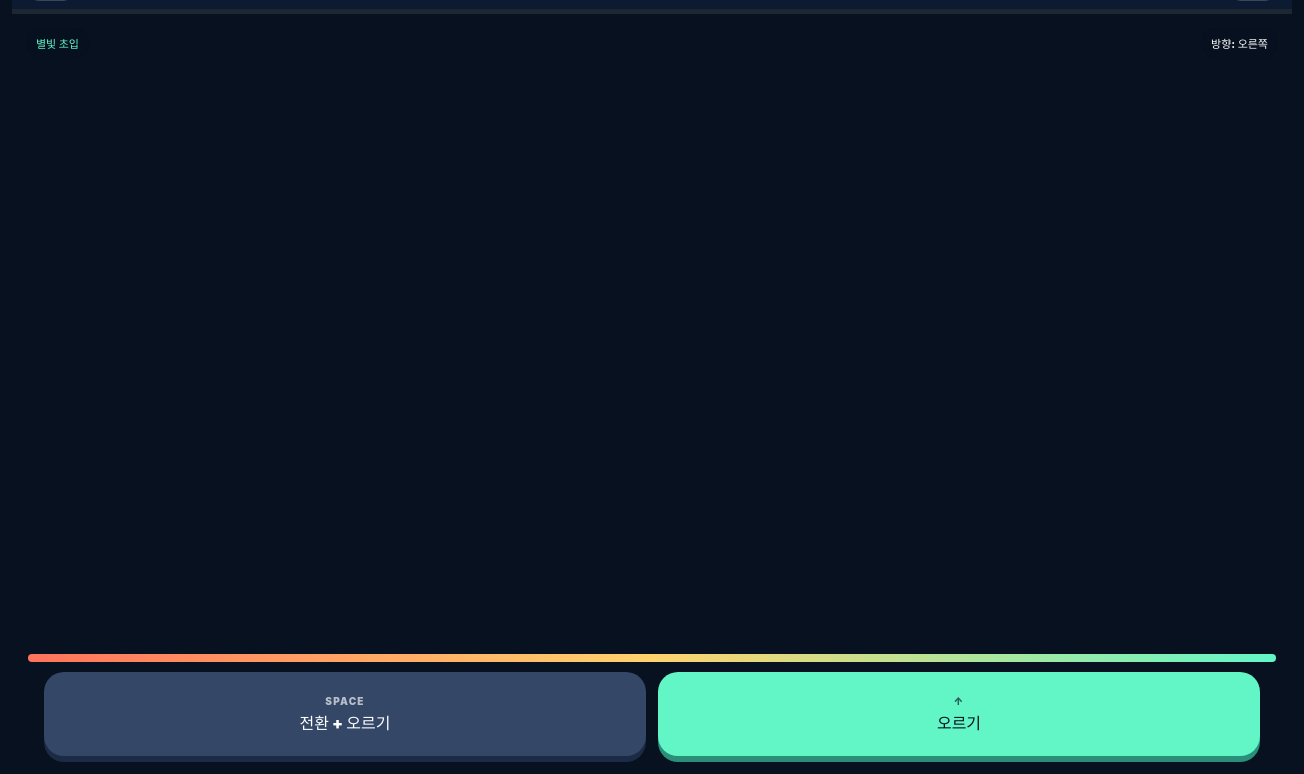
Scenario: GameScreen › uses the same actions for the two mobile buttons
(page scrolled)
Click the button "↑ 오르기" at (959, 714), box [658,672,1260,756]
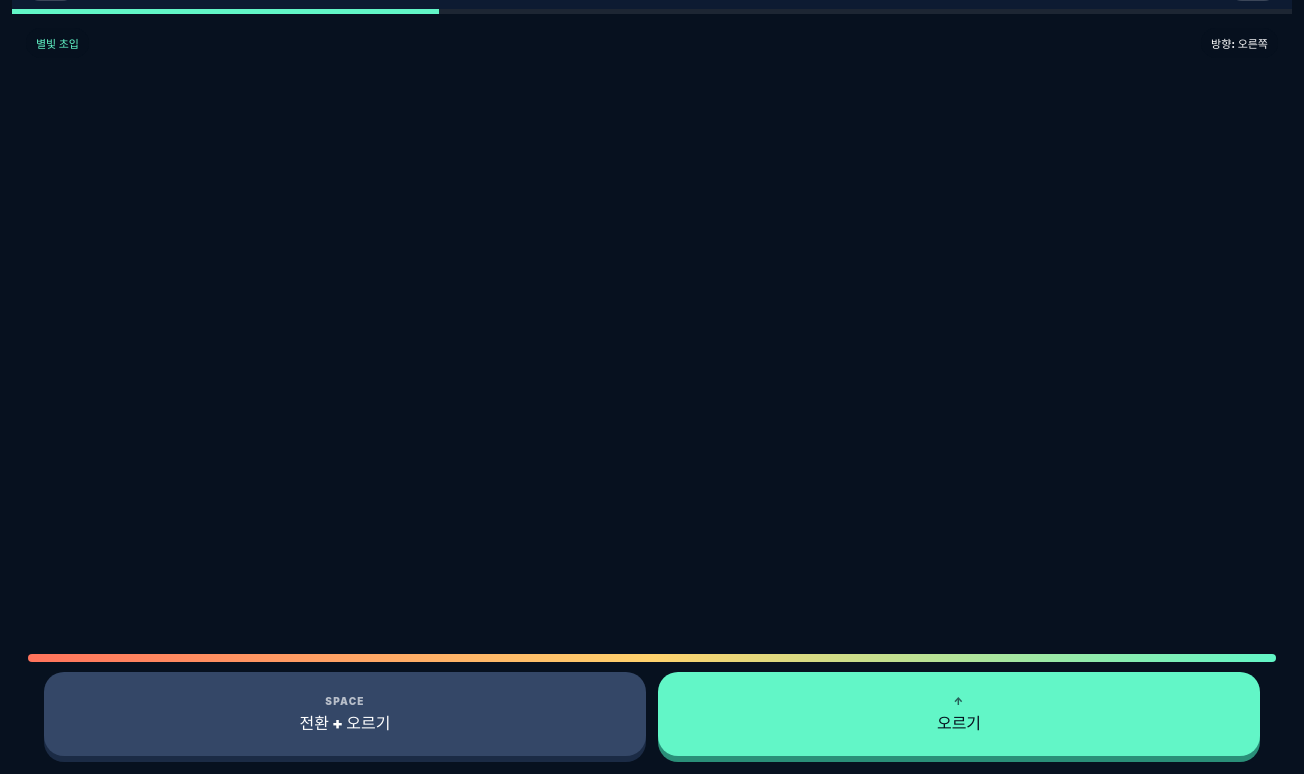
Click the button "SPACE 전환 + 오르기" at (345, 714), box [44,672,646,756]
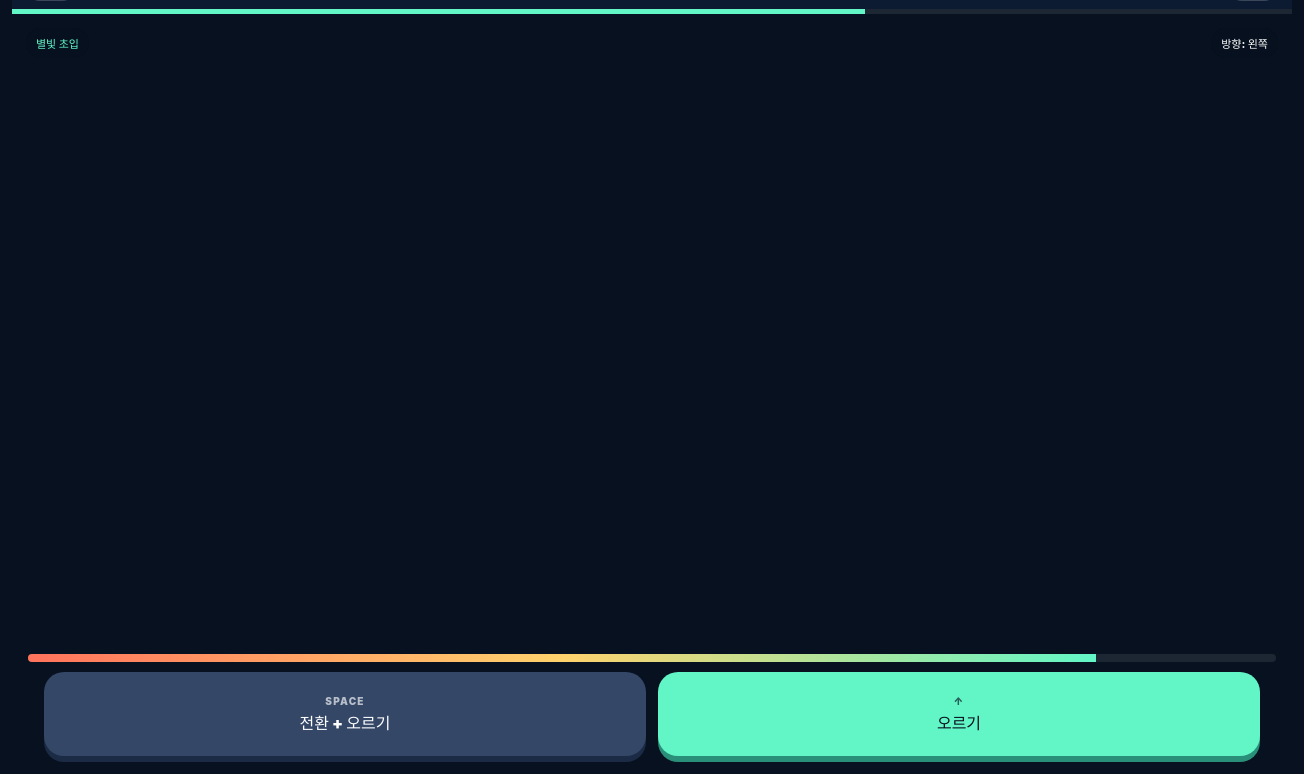
Now the drawing named "현재 2번째 계단" is shown
Now the text "방향: 왼쪽" is shown, box [1211,28,1278,58]
